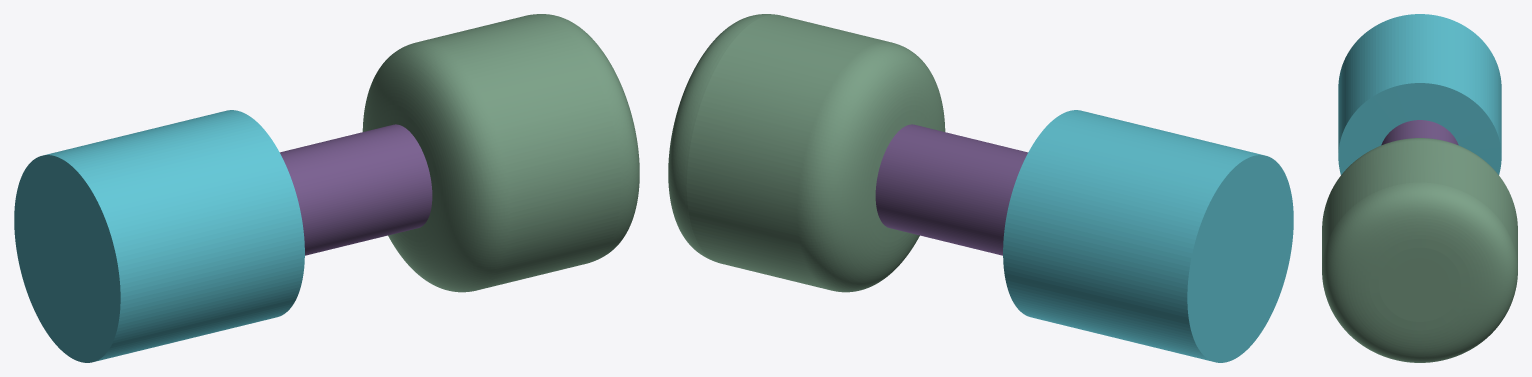
File: 5_canonical.obj
The picture shows the model from 3 angles, left to right: view 1: azimuth 30°, elevation 25°; view 2: azimuth 150°, elevation 25°; view 3: azimuth 270°, elevation 25°; orthographic projection. The views are drawn at different scales.
Parts seen in each view (by area): view 1: geometry_2, geometry_0, geometry_1; view 2: geometry_2, geometry_0, geometry_1; view 3: geometry_0, geometry_2, geometry_1.
Boxes of the visible parts, <box> form: geometry_2: <box>14,110,304,362</box>; geometry_0: <box>362,14,639,292</box>; geometry_1: <box>280,124,432,255</box>; geometry_2: <box>1003,110,1293,362</box>; geometry_0: <box>668,14,945,292</box>; geometry_1: <box>875,124,1027,255</box>; geometry_0: <box>1322,138,1517,362</box>; geometry_2: <box>1338,14,1501,174</box>; geometry_1: <box>1381,120,1458,145</box>.
Bounding box in the file's own units: 0.0285 × 0.012 × 0.012.
